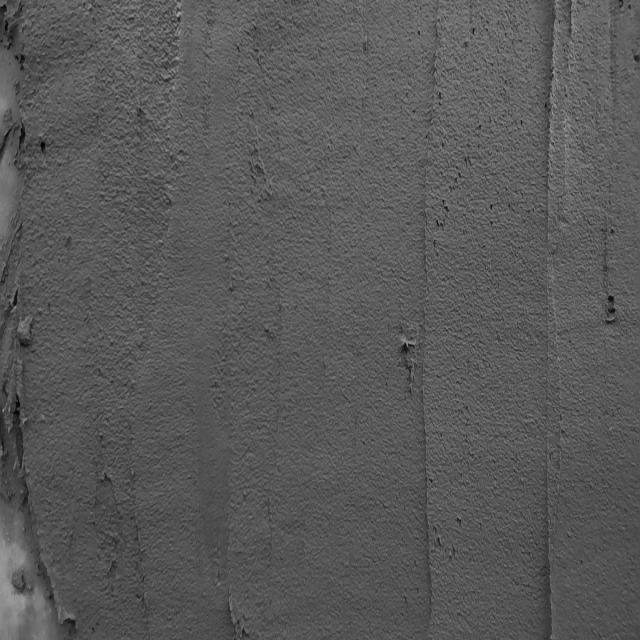trowels marks: (416, 3, 448, 640), (540, 8, 568, 640)
